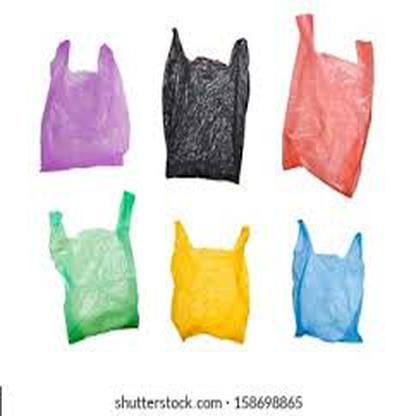plastic bag: (282, 11, 374, 197), (46, 190, 143, 343), (161, 27, 250, 185), (35, 38, 131, 172), (170, 219, 252, 344), (291, 220, 366, 345)
